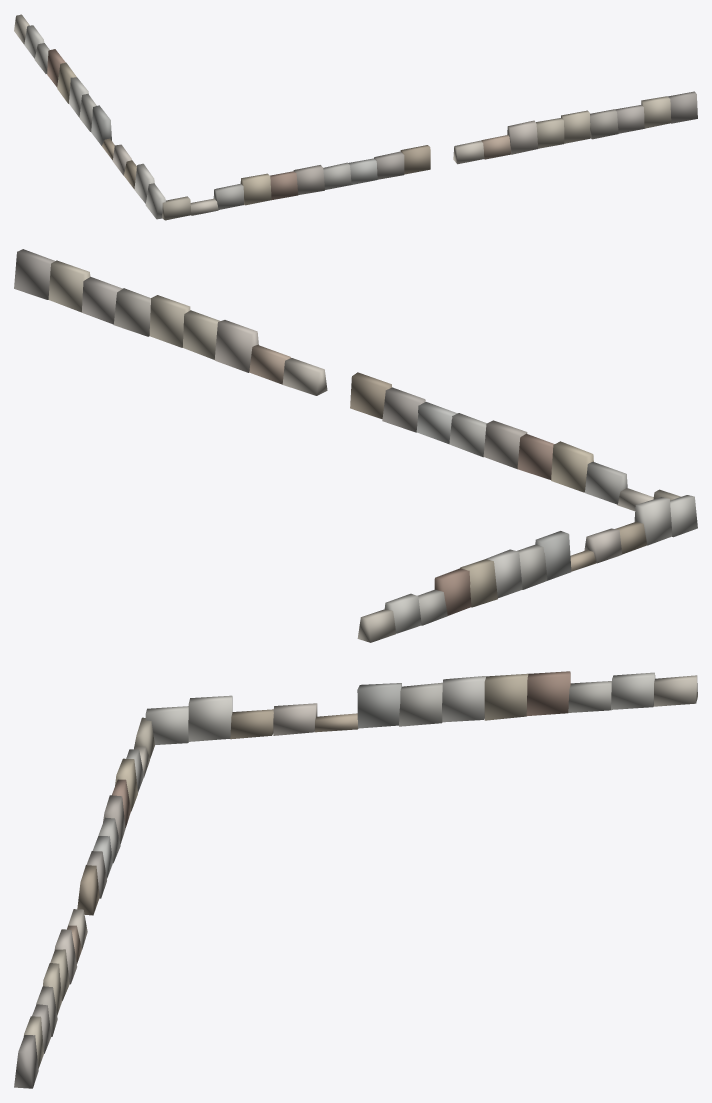
The model's file is farm_4_34_far.glb.
The picture shows the model from 3 angles, top to bottom: view 1: azimuth 30°, elevation 25°; view 2: azimuth 150°, elevation 25°; view 3: azimuth 270°, elevation 25°; orthographic projection. The views are drawn at different scales.
Visible parts, largest first — view 1: geometry_0; view 2: geometry_0; view 3: geometry_0.
Boxes of the visible parts, left/top/right/bottom form: geometry_0: left=14, top=14, right=697, bottom=220; geometry_0: left=14, top=249, right=697, bottom=642; geometry_0: left=14, top=671, right=697, bottom=1088.
Bounding box in the file's own units: 31.57 × 3.74 × 24.75.
